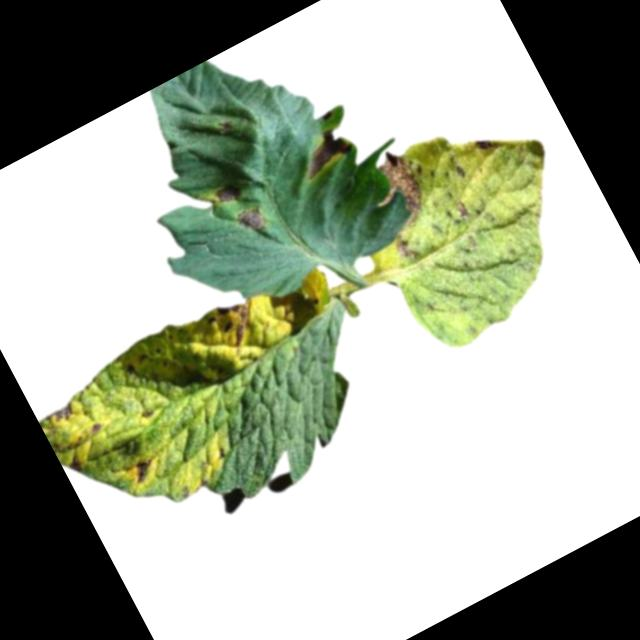Early_blight: (354, 144, 452, 265), (291, 122, 358, 181), (201, 296, 263, 357), (234, 204, 270, 241), (126, 453, 162, 489), (212, 181, 243, 211), (470, 130, 500, 159), (50, 401, 76, 426), (449, 197, 471, 223)
